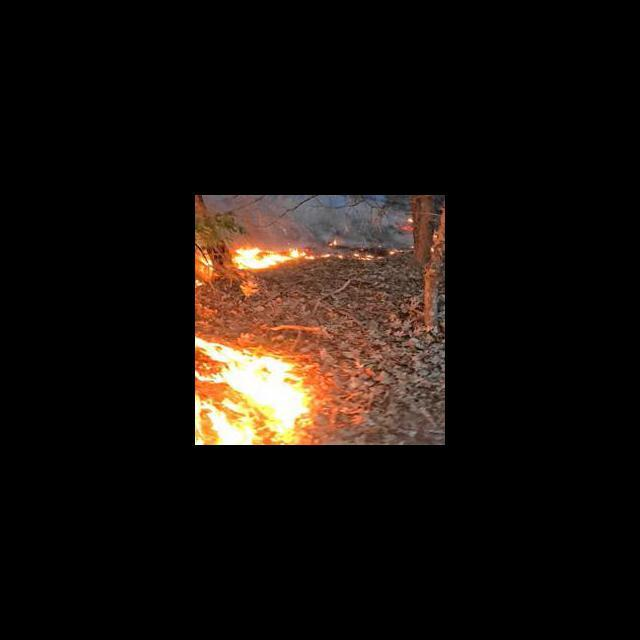Fire: (196, 326, 321, 444), (202, 234, 351, 282)
